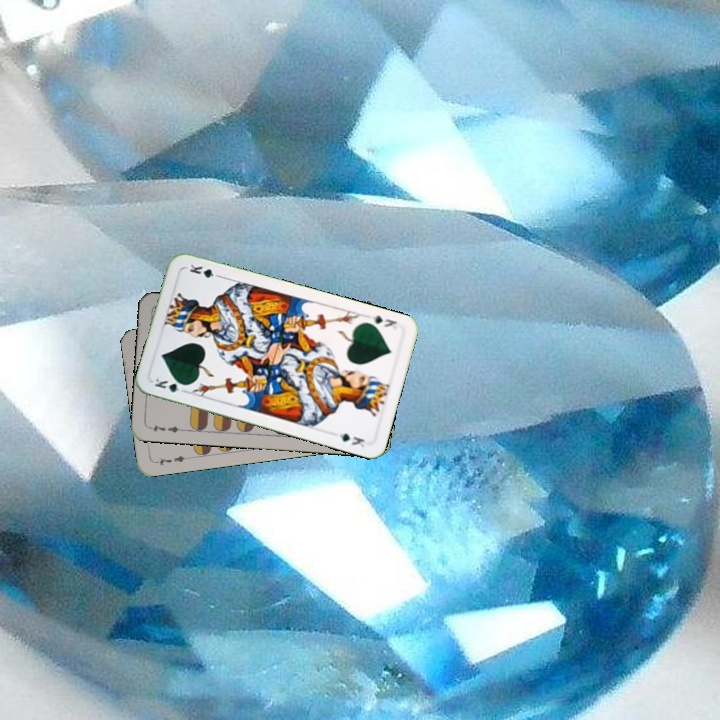E7: (151, 451, 192, 468), (146, 420, 186, 435)
GK: (150, 374, 190, 395), (367, 311, 399, 332)
